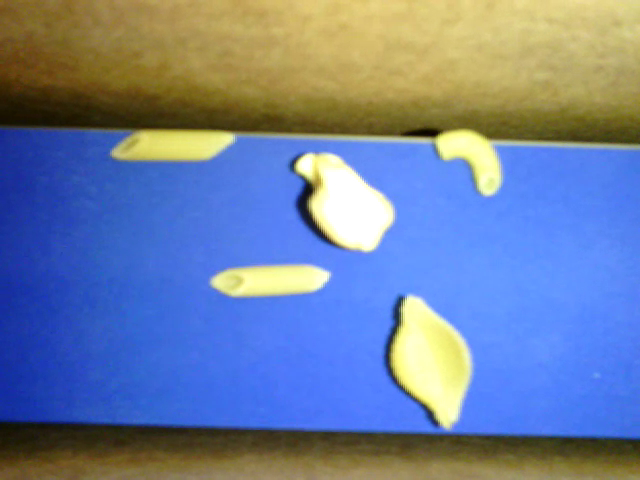elbow: (433, 128, 502, 196)
penne: (209, 261, 332, 297), (111, 129, 236, 163)
shell: (386, 294, 473, 427)
